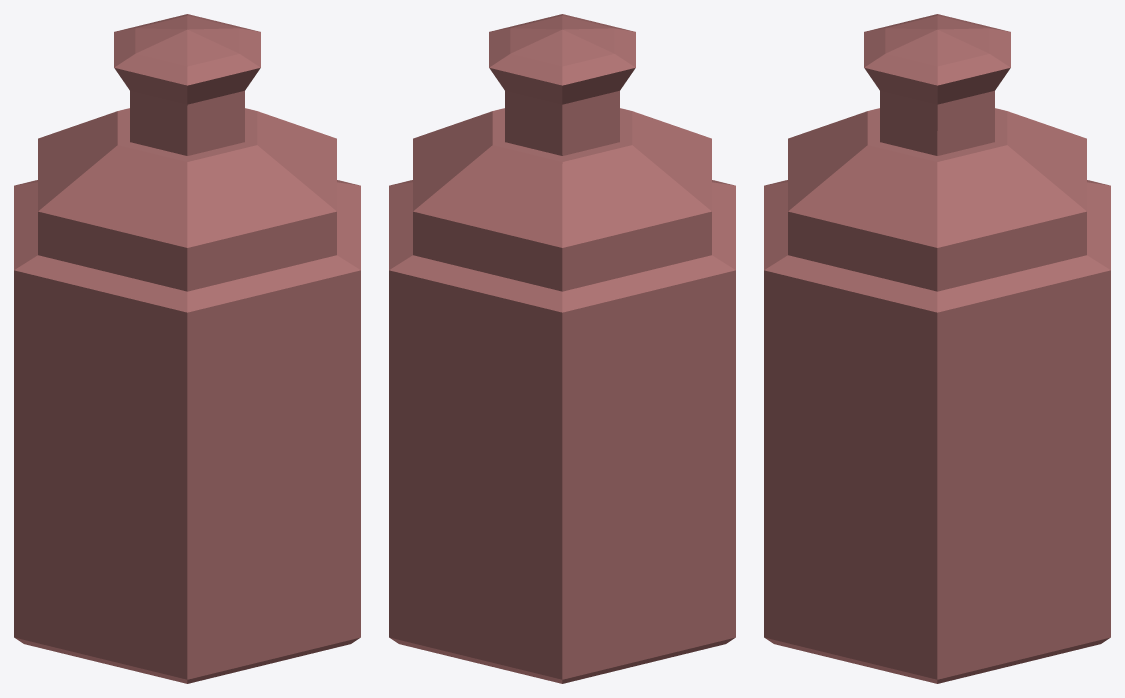
File: TurretBase.fbx
The picture shows the model from 3 angles, left to right: view 1: azimuth 30°, elevation 25°; view 2: azimuth 150°, elevation 25°; view 3: azimuth 270°, elevation 25°; orthographic projection.
Parts seen in each view (by area): view 1: Hex; view 2: Hex; view 3: Hex.
Part boxes in pixels (x1,y1,x2,y2): Hex: (14,14,360,683); Hex: (389,14,735,683); Hex: (764,14,1110,683).
Size of the model in its own units: 10 by 15.83 by 8.66.
